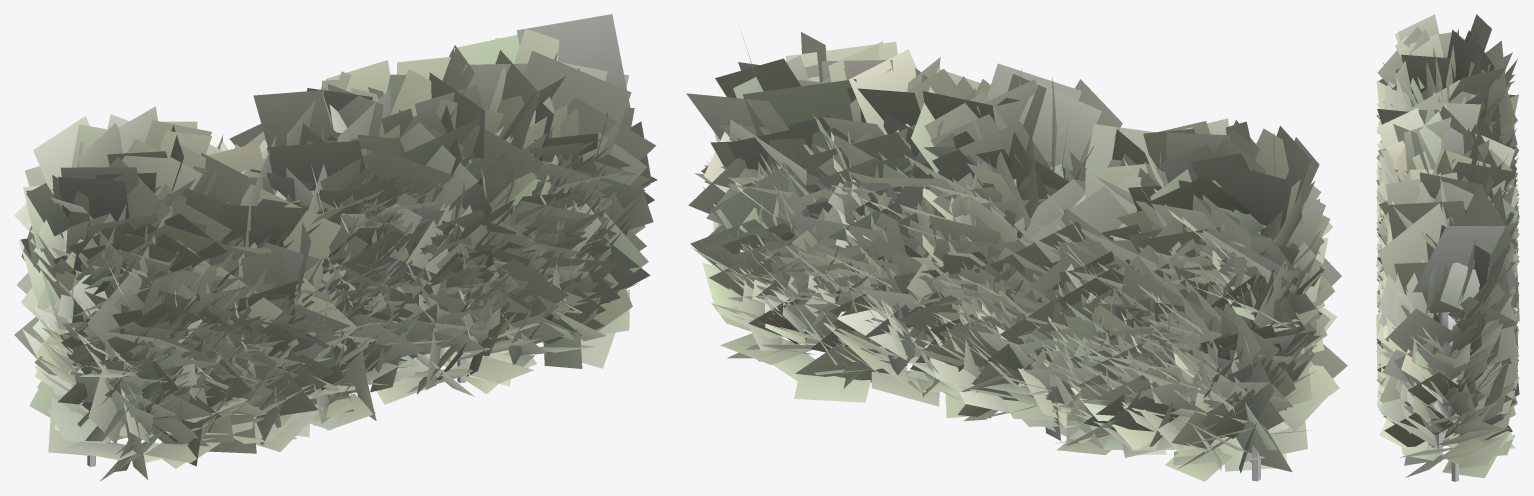
Rendered from hedge_run.glb.
3 renders of one model, left to right at view 1: azimuth 30°, elevation 25°; view 2: azimuth 150°, elevation 25°; view 3: azimuth 270°, elevation 25°, orthographic. The views are drawn at different scales.
Parts seen in each view (by area): view 1: hedge_run; view 2: hedge_run; view 3: hedge_run.
Part boxes in pixels (x1=…): hedge_run: x1=14, y1=14, x2=657, y2=481; hedge_run: x1=686, y1=31, x2=1347, y2=481; hedge_run: x1=1376, y1=14, x2=1519, y2=481.
Size of the model in its own units: 5.02 by 2.75 by 1.32.
